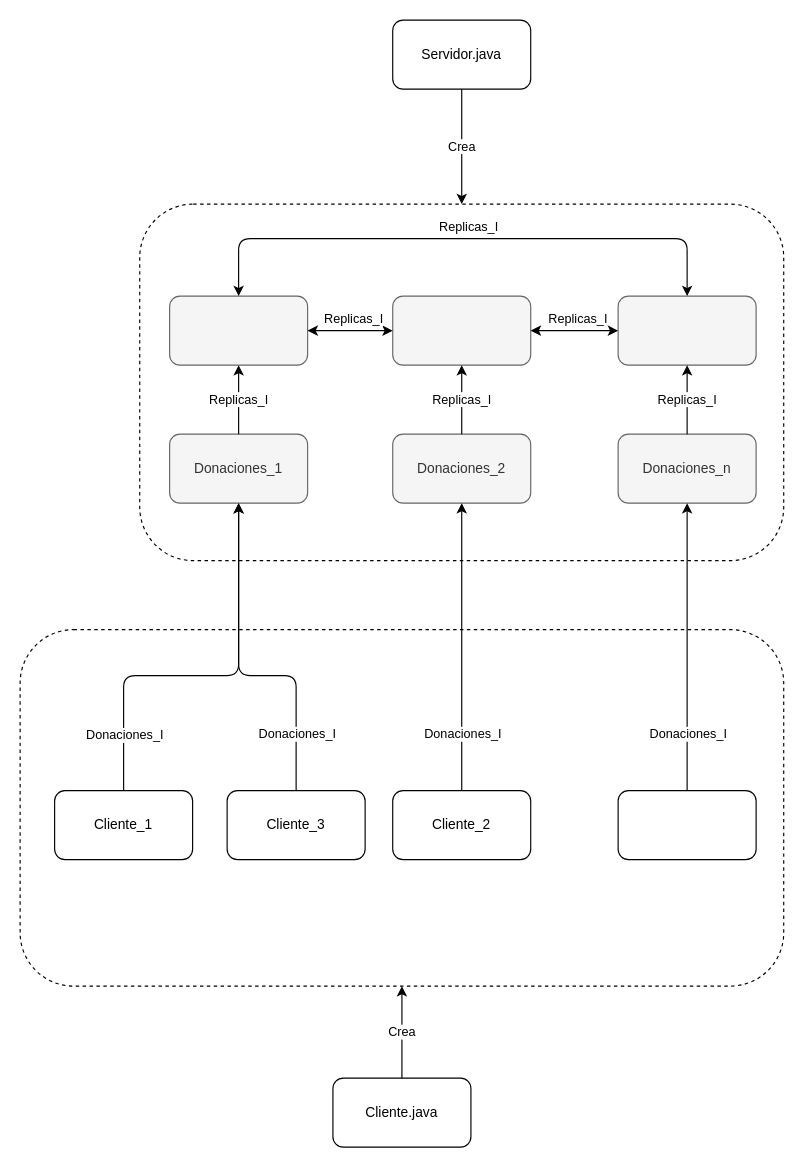
This 804x1167 diagram has some shape labels left out. Here are the shapes that lost their labels. From the top down, the centre of each, then its label:
At (238,330): "Replica_1".
At (461,330): "Replica_2".
At (686,330): "Replica_n".
At (686,824): "Cliente_N".
